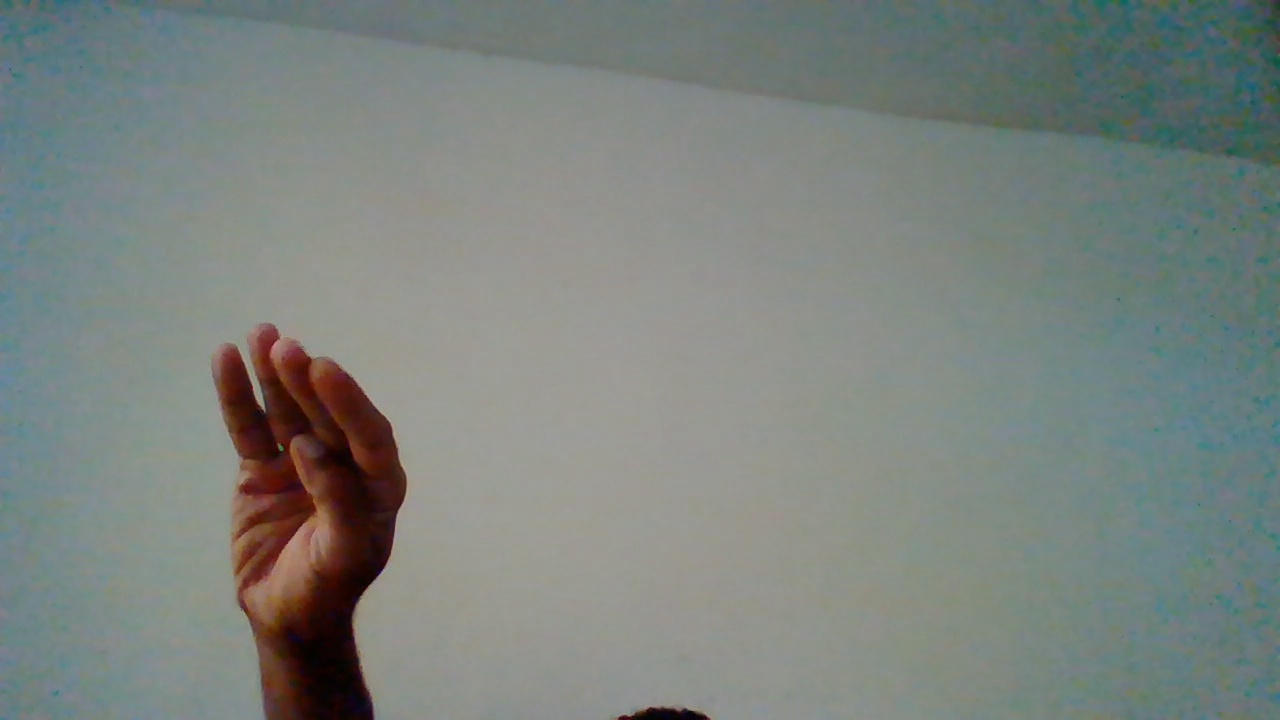me: (206, 322, 410, 707)
